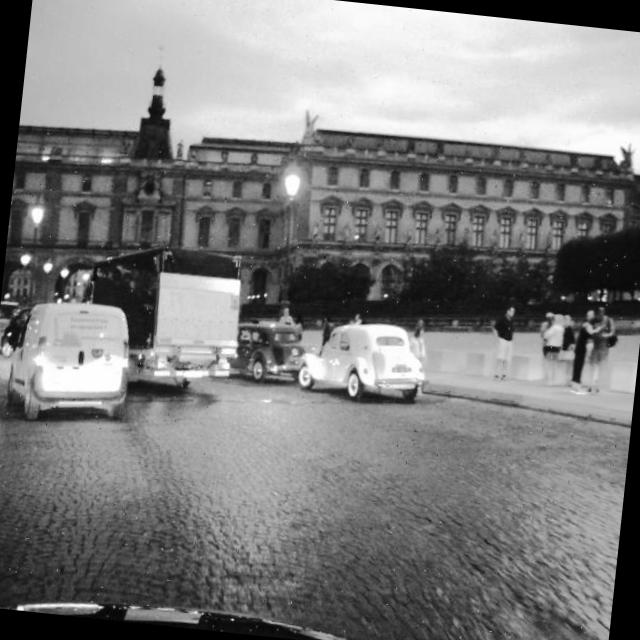Truck: (71, 238, 246, 399)
